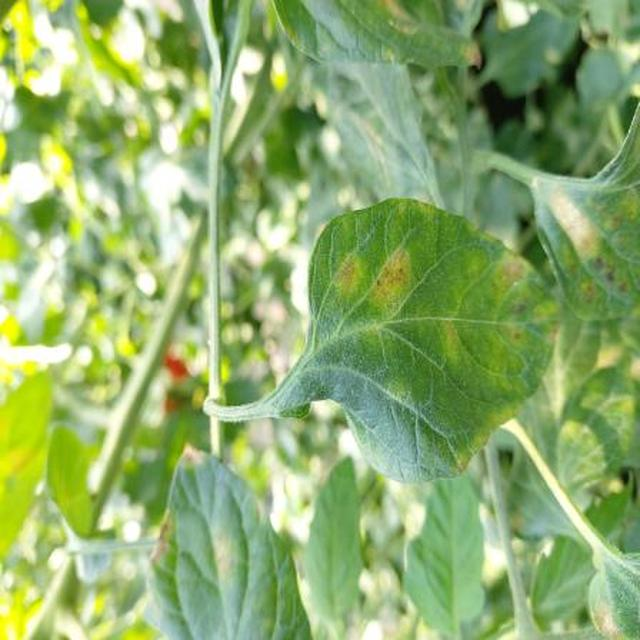Leaf Mold: (249, 286, 618, 640)
